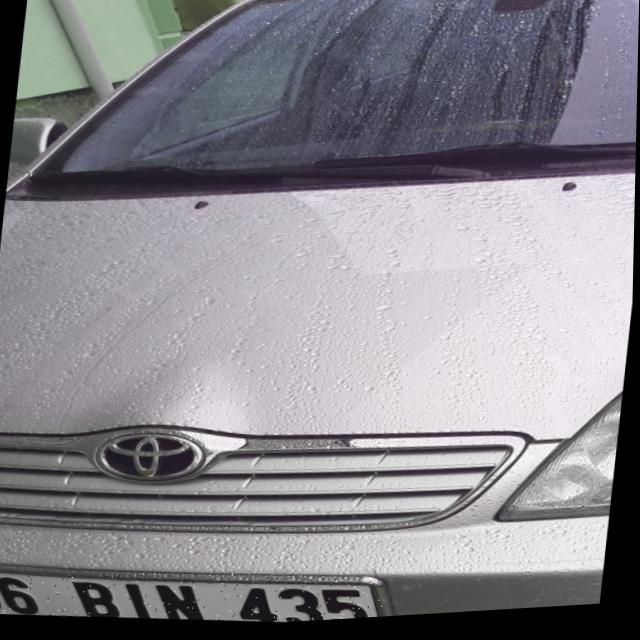license_plate: (0, 545, 391, 640)
